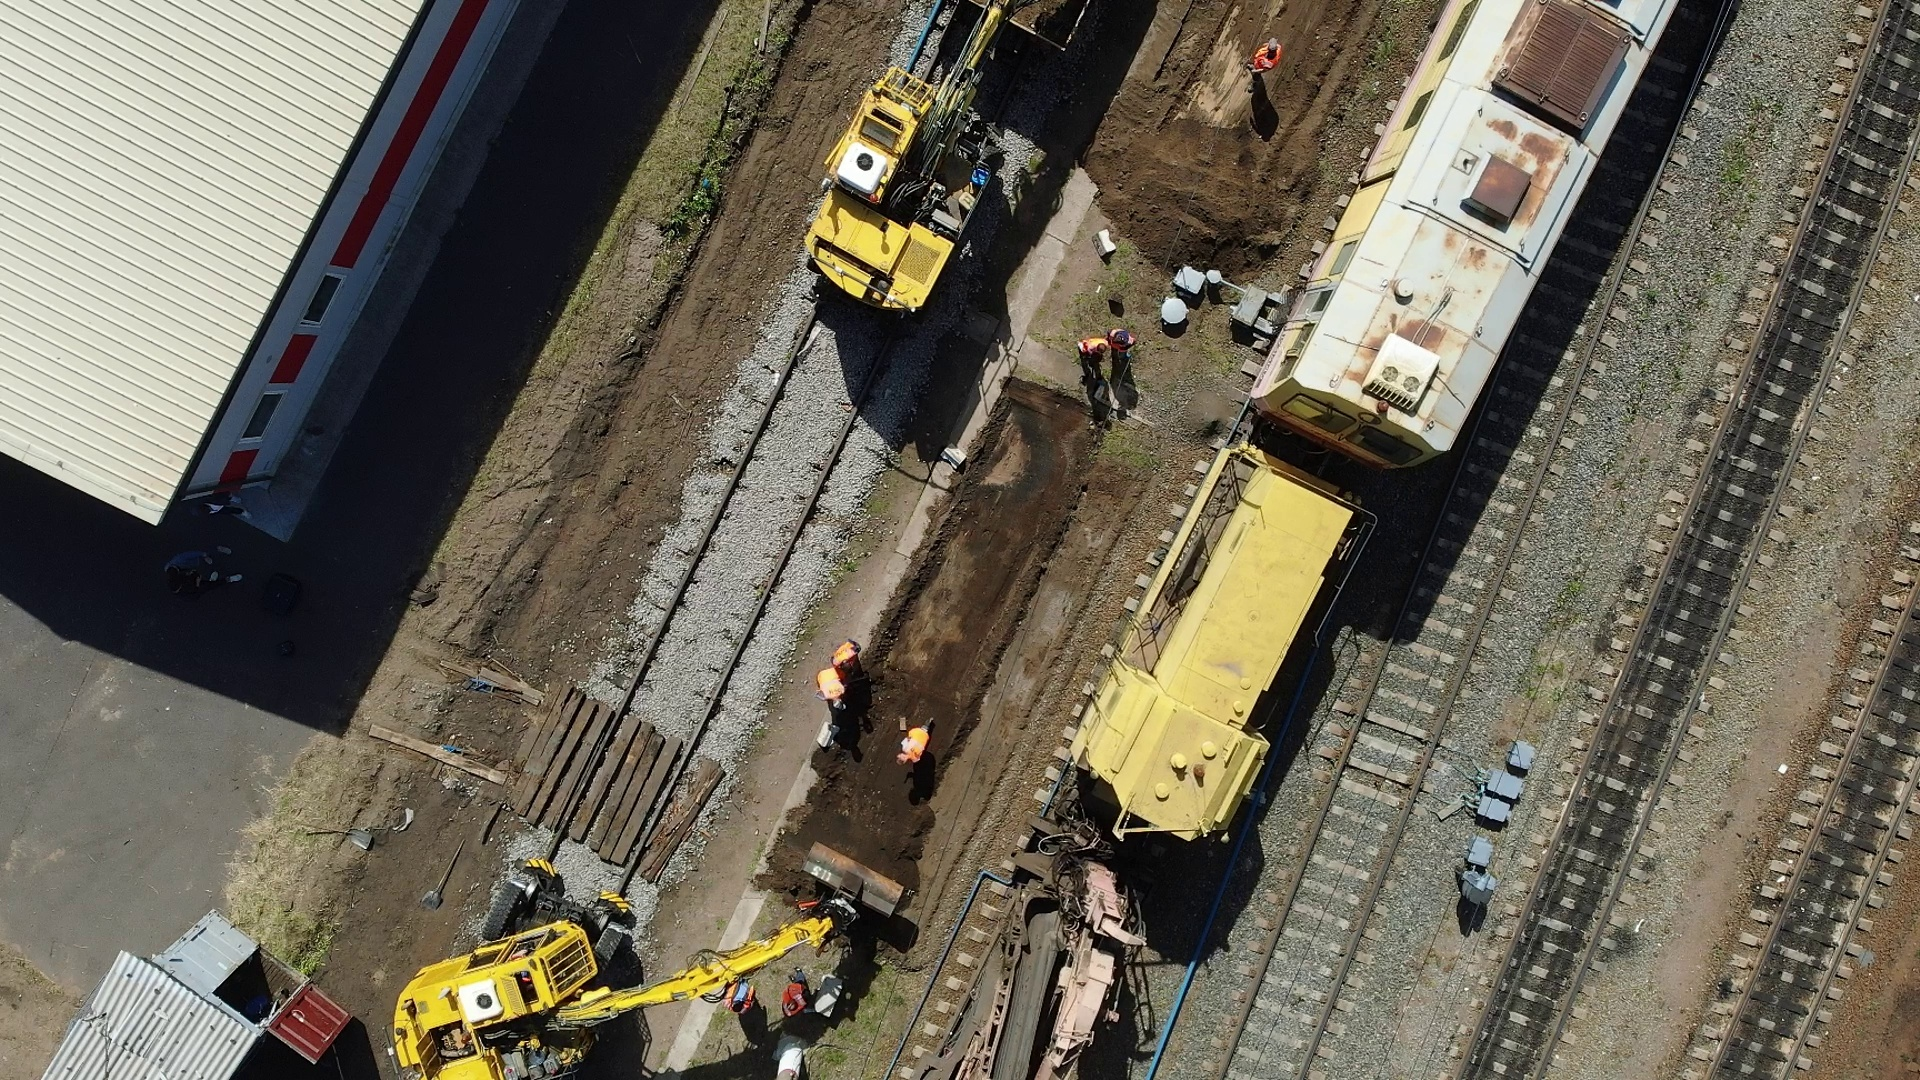kjtv: (385, 851, 657, 1080), (802, 65, 1001, 328)
